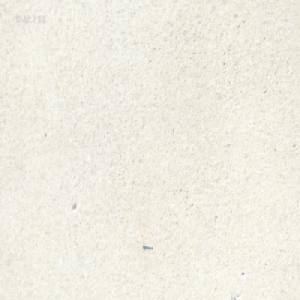Nail: (142, 242, 153, 250)
